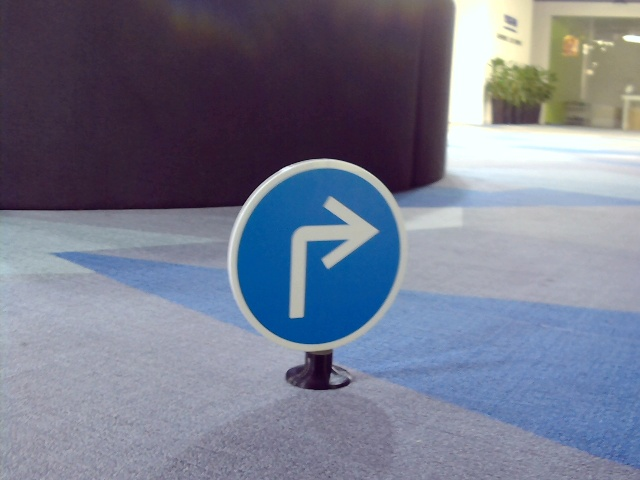turn_right: (273, 193, 379, 319)
